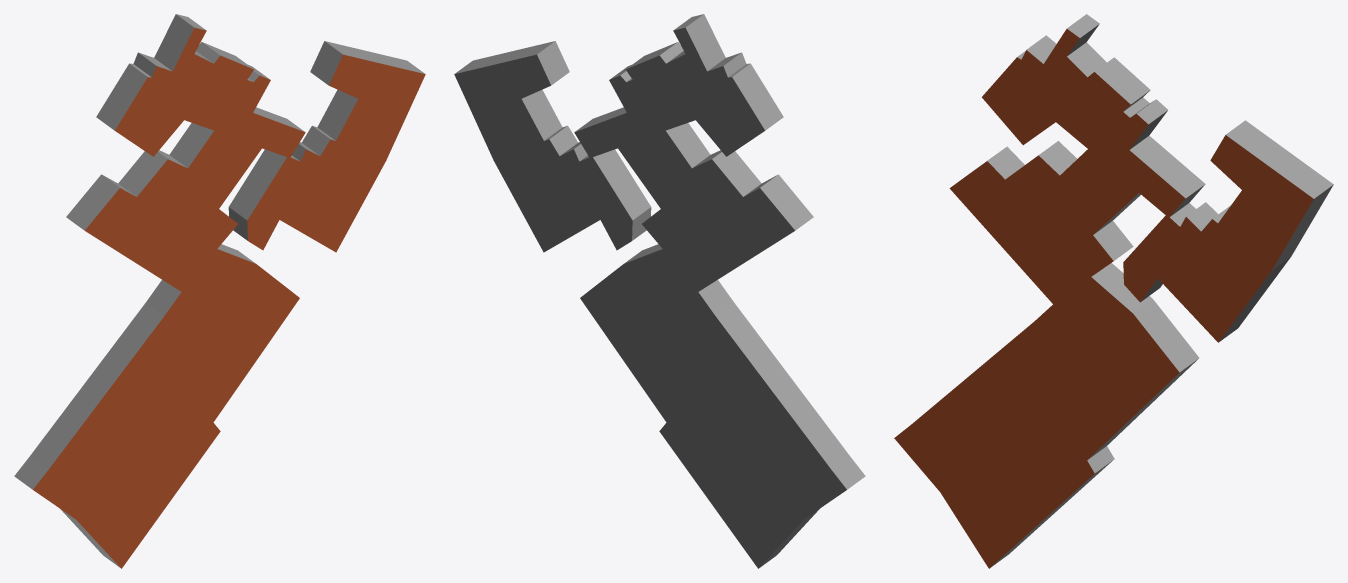
Rendered from construction_7103_assumed_A_Casa_h6m.obj.
3 renders of one model, left to right at view 1: azimuth 30°, elevation 25°; view 2: azimuth 150°, elevation 25°; view 3: azimuth 330°, elevation 25°, orthographic. The views are drawn at different scales.
Parts seen in each view (by area): view 1: construction_7103_assumed_A_Casa; view 2: construction_7103_assumed_A_Casa; view 3: construction_7103_assumed_A_Casa.
Part boxes in pixels (box(x1,y1,x2,y2)): construction_7103_assumed_A_Casa: box(14, 14, 425, 568); construction_7103_assumed_A_Casa: box(454, 14, 865, 568); construction_7103_assumed_A_Casa: box(894, 14, 1333, 568).
Bounding box in the file's own units: 73.09 × 93.06 × 6.
